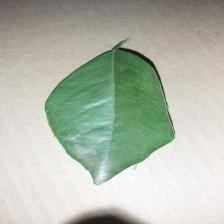healthy: (41, 28, 199, 188)
